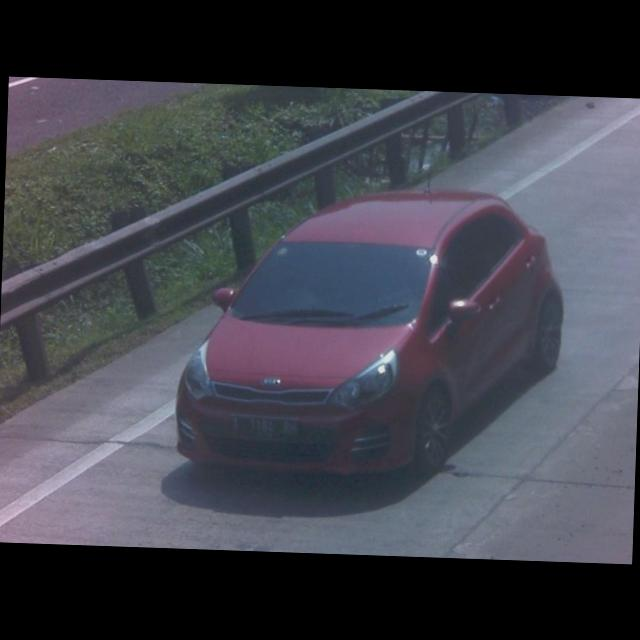plate: (226, 410, 303, 444)
